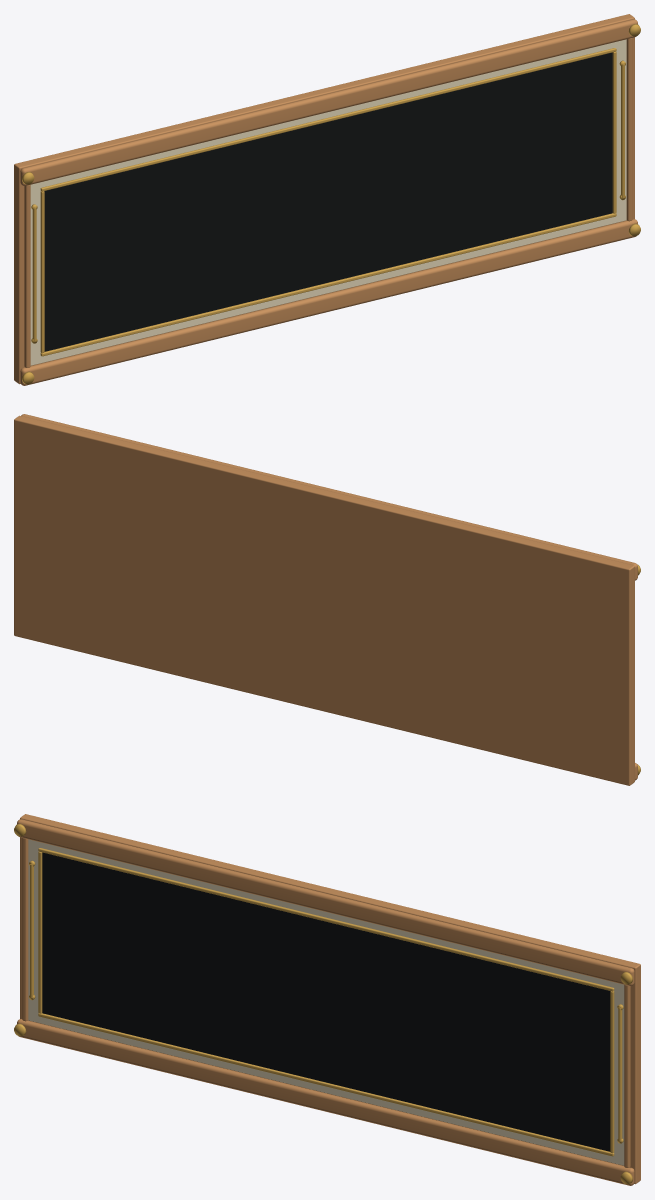
File: menu_board.glb
3 renders of one model, top to bottom at view 1: azimuth 30°, elevation 25°; view 2: azimuth 150°, elevation 25°; view 3: azimuth 330°, elevation 25°, orthographic.
Visible parts, largest first — view 1: BoardFace, OakRail1, OakRail0, CreamInset, OakBack, BrassFrame1, BrassFrame0, OakPost0, OakPost1, BrassFrame2, BrassFrame3, SideBar-1 (+1 smaller); view 2: OakBack, OakRail1; view 3: BoardFace, OakRail1, OakRail0, CreamInset, OakBack, BrassFrame1, BrassFrame0, OakPost0, OakPost1, BrassFrame3, BrassFrame2, SideBar1 (+1 smaller).
Boxes of the visible parts, x1,y1,x2,y2 form: BoardFace: (44,52,612,351); OakRail1: (20,19,637,185); OakRail0: (20,219,637,385); CreamInset: (30,39,626,365); OakBack: (14,14,634,384); BrassFrame1: (40,48,616,191); BrassFrame0: (40,213,616,356); OakPost0: (24,185,30,367); OakPost1: (626,38,632,221); BrassFrame2: (40,191,44,353); BrassFrame3: (612,51,616,213); SideBar-1: (32,207,36,341); OakBack: (14,415,634,785); OakRail1: (21,414,637,580); BoardFace: (42,852,610,1151); OakRail1: (17,819,634,985); OakRail0: (17,1019,634,1185); CreamInset: (28,839,624,1165); OakBack: (20,814,640,1184); BrassFrame1: (38,848,614,991); BrassFrame0: (38,1013,614,1156); OakPost0: (22,838,28,1021); OakPost1: (624,985,630,1167); BrassFrame3: (610,991,614,1153); BrassFrame2: (38,851,42,1013); SideBar1: (618,1007,622,1141).
Size of the model in its own units: 3.19 by 1.07 by 0.098.
